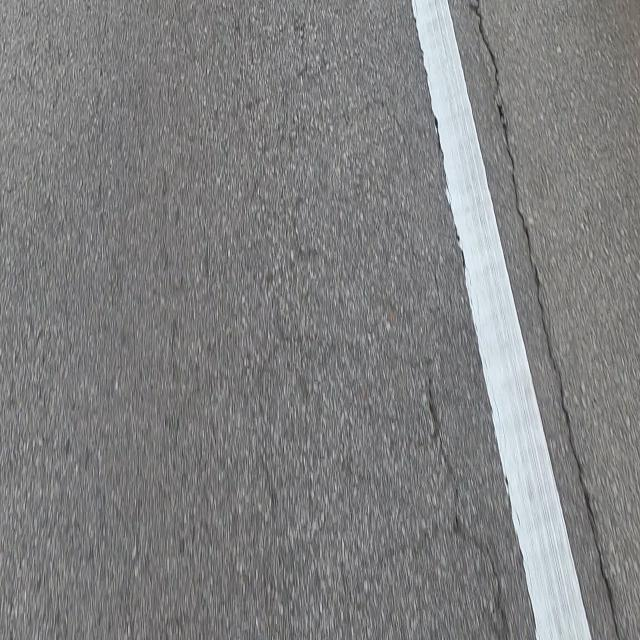Retak-Memanjang: (470, 1, 622, 640), (425, 379, 510, 638)
